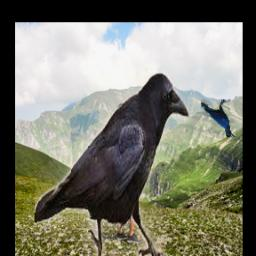Crow: (35, 72, 189, 256), (200, 100, 235, 138)
